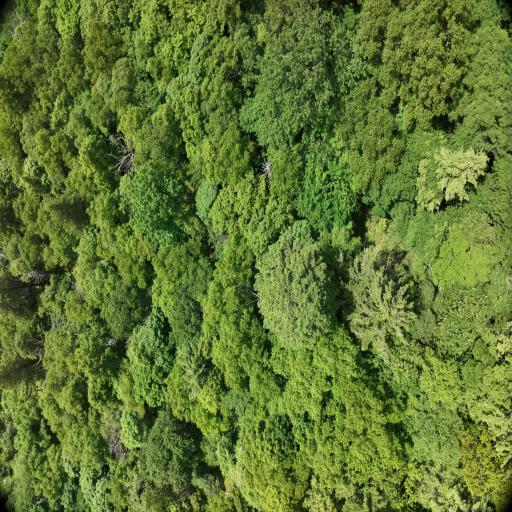dead-tree: (96, 130, 139, 178), (24, 323, 48, 364), (105, 430, 131, 466), (258, 159, 274, 180), (105, 335, 119, 348), (234, 468, 242, 487)
